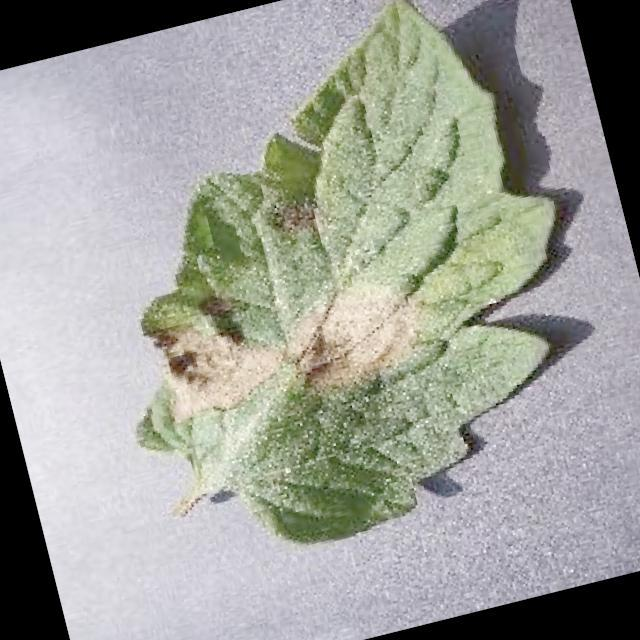Tomato late blight leaf: (44, 0, 624, 584)
